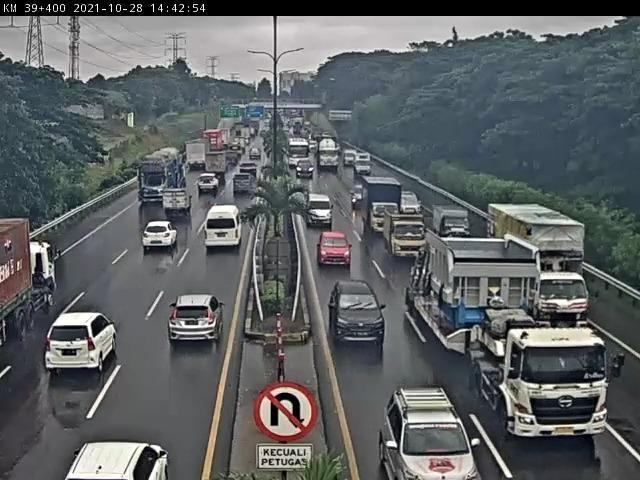car: (43, 312, 119, 372), (328, 280, 388, 351), (167, 294, 228, 349), (204, 205, 246, 251), (317, 231, 354, 268), (305, 193, 338, 231), (143, 219, 180, 252)
truck: (405, 232, 625, 443), (487, 203, 589, 332), (138, 147, 189, 203), (381, 207, 429, 259), (364, 175, 403, 237), (435, 204, 472, 248), (163, 187, 196, 220)
